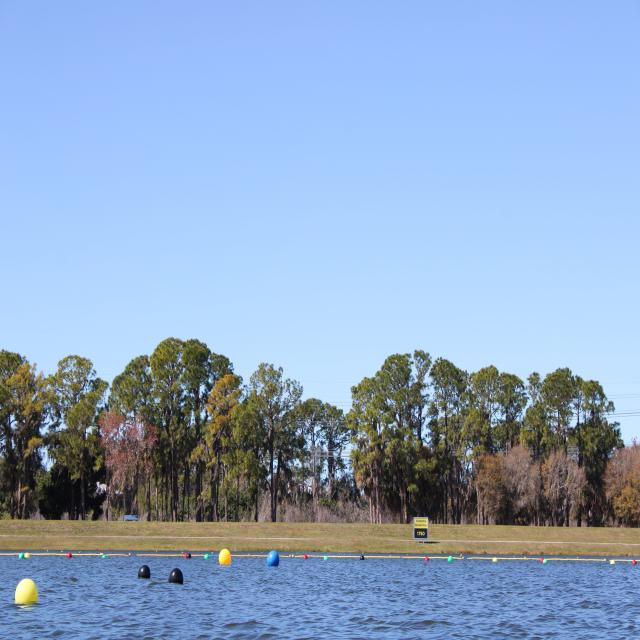black-buoy: (169, 567, 184, 584), (138, 564, 151, 580)
blue-buoy: (268, 550, 281, 569)
green-buoy: (18, 553, 24, 561)
red-buoy: (632, 560, 638, 566)
yellow-buoy: (16, 578, 40, 606), (218, 549, 230, 567), (609, 559, 615, 566), (26, 553, 31, 560), (290, 554, 294, 560)
